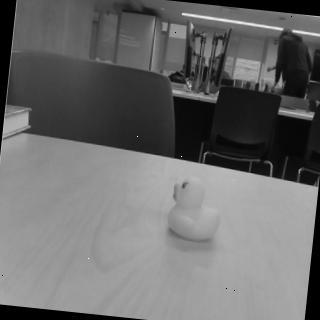duck_regular: (164, 174, 227, 248)
